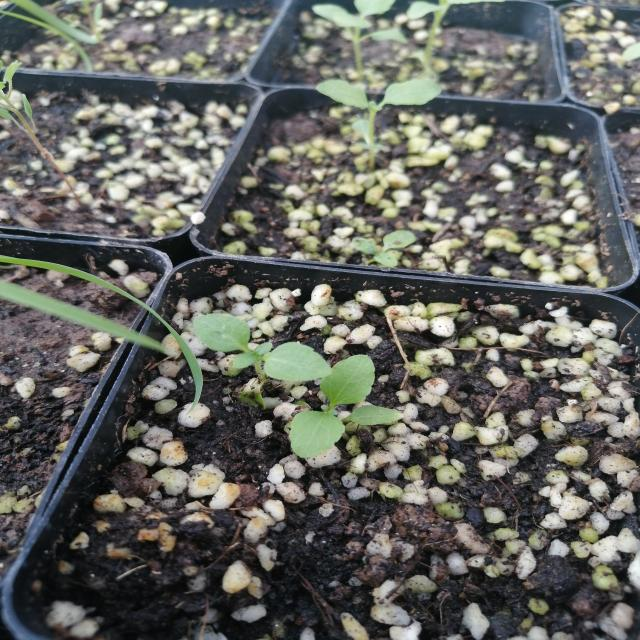billygoat_weed: (276, 353, 436, 479), (184, 302, 342, 402)
